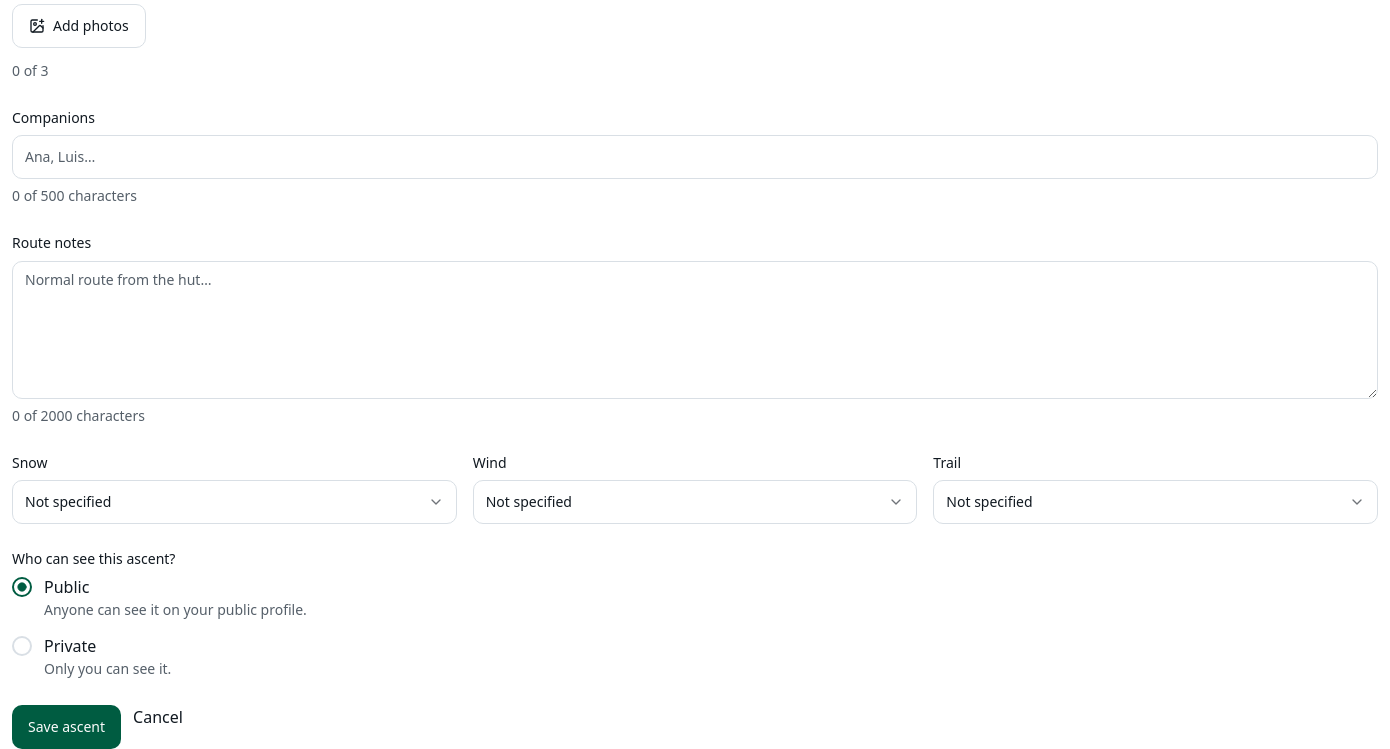
RegisterAscentForm › registerAscent_withoutPeak_isRejectedBeforeCallingTheApi
(page scrolled)
Click the button "Save ascent".
click(67, 726)  # box 12,704 -> 121,748
(page scrolled)
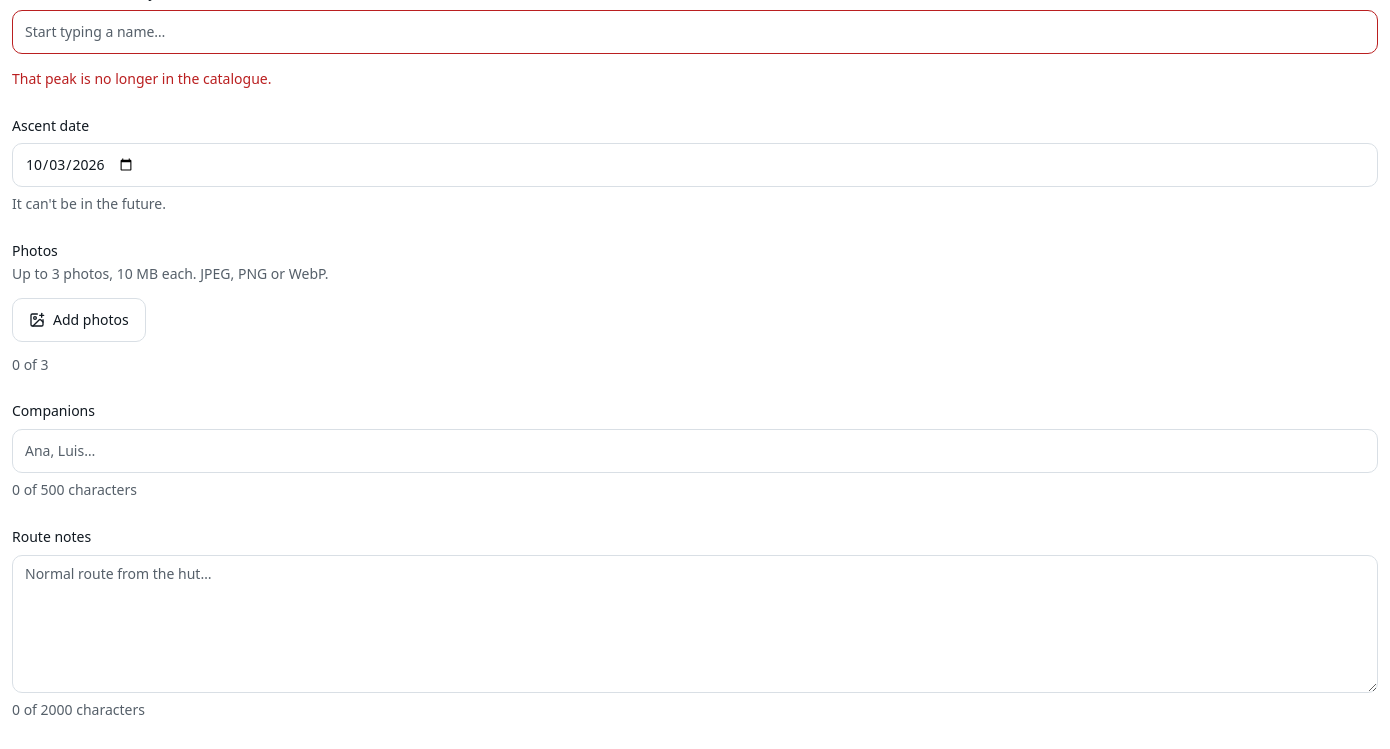
Expected: the text "That peak is no longer in the catalogue." is shown, 12,69 -> 272,88
